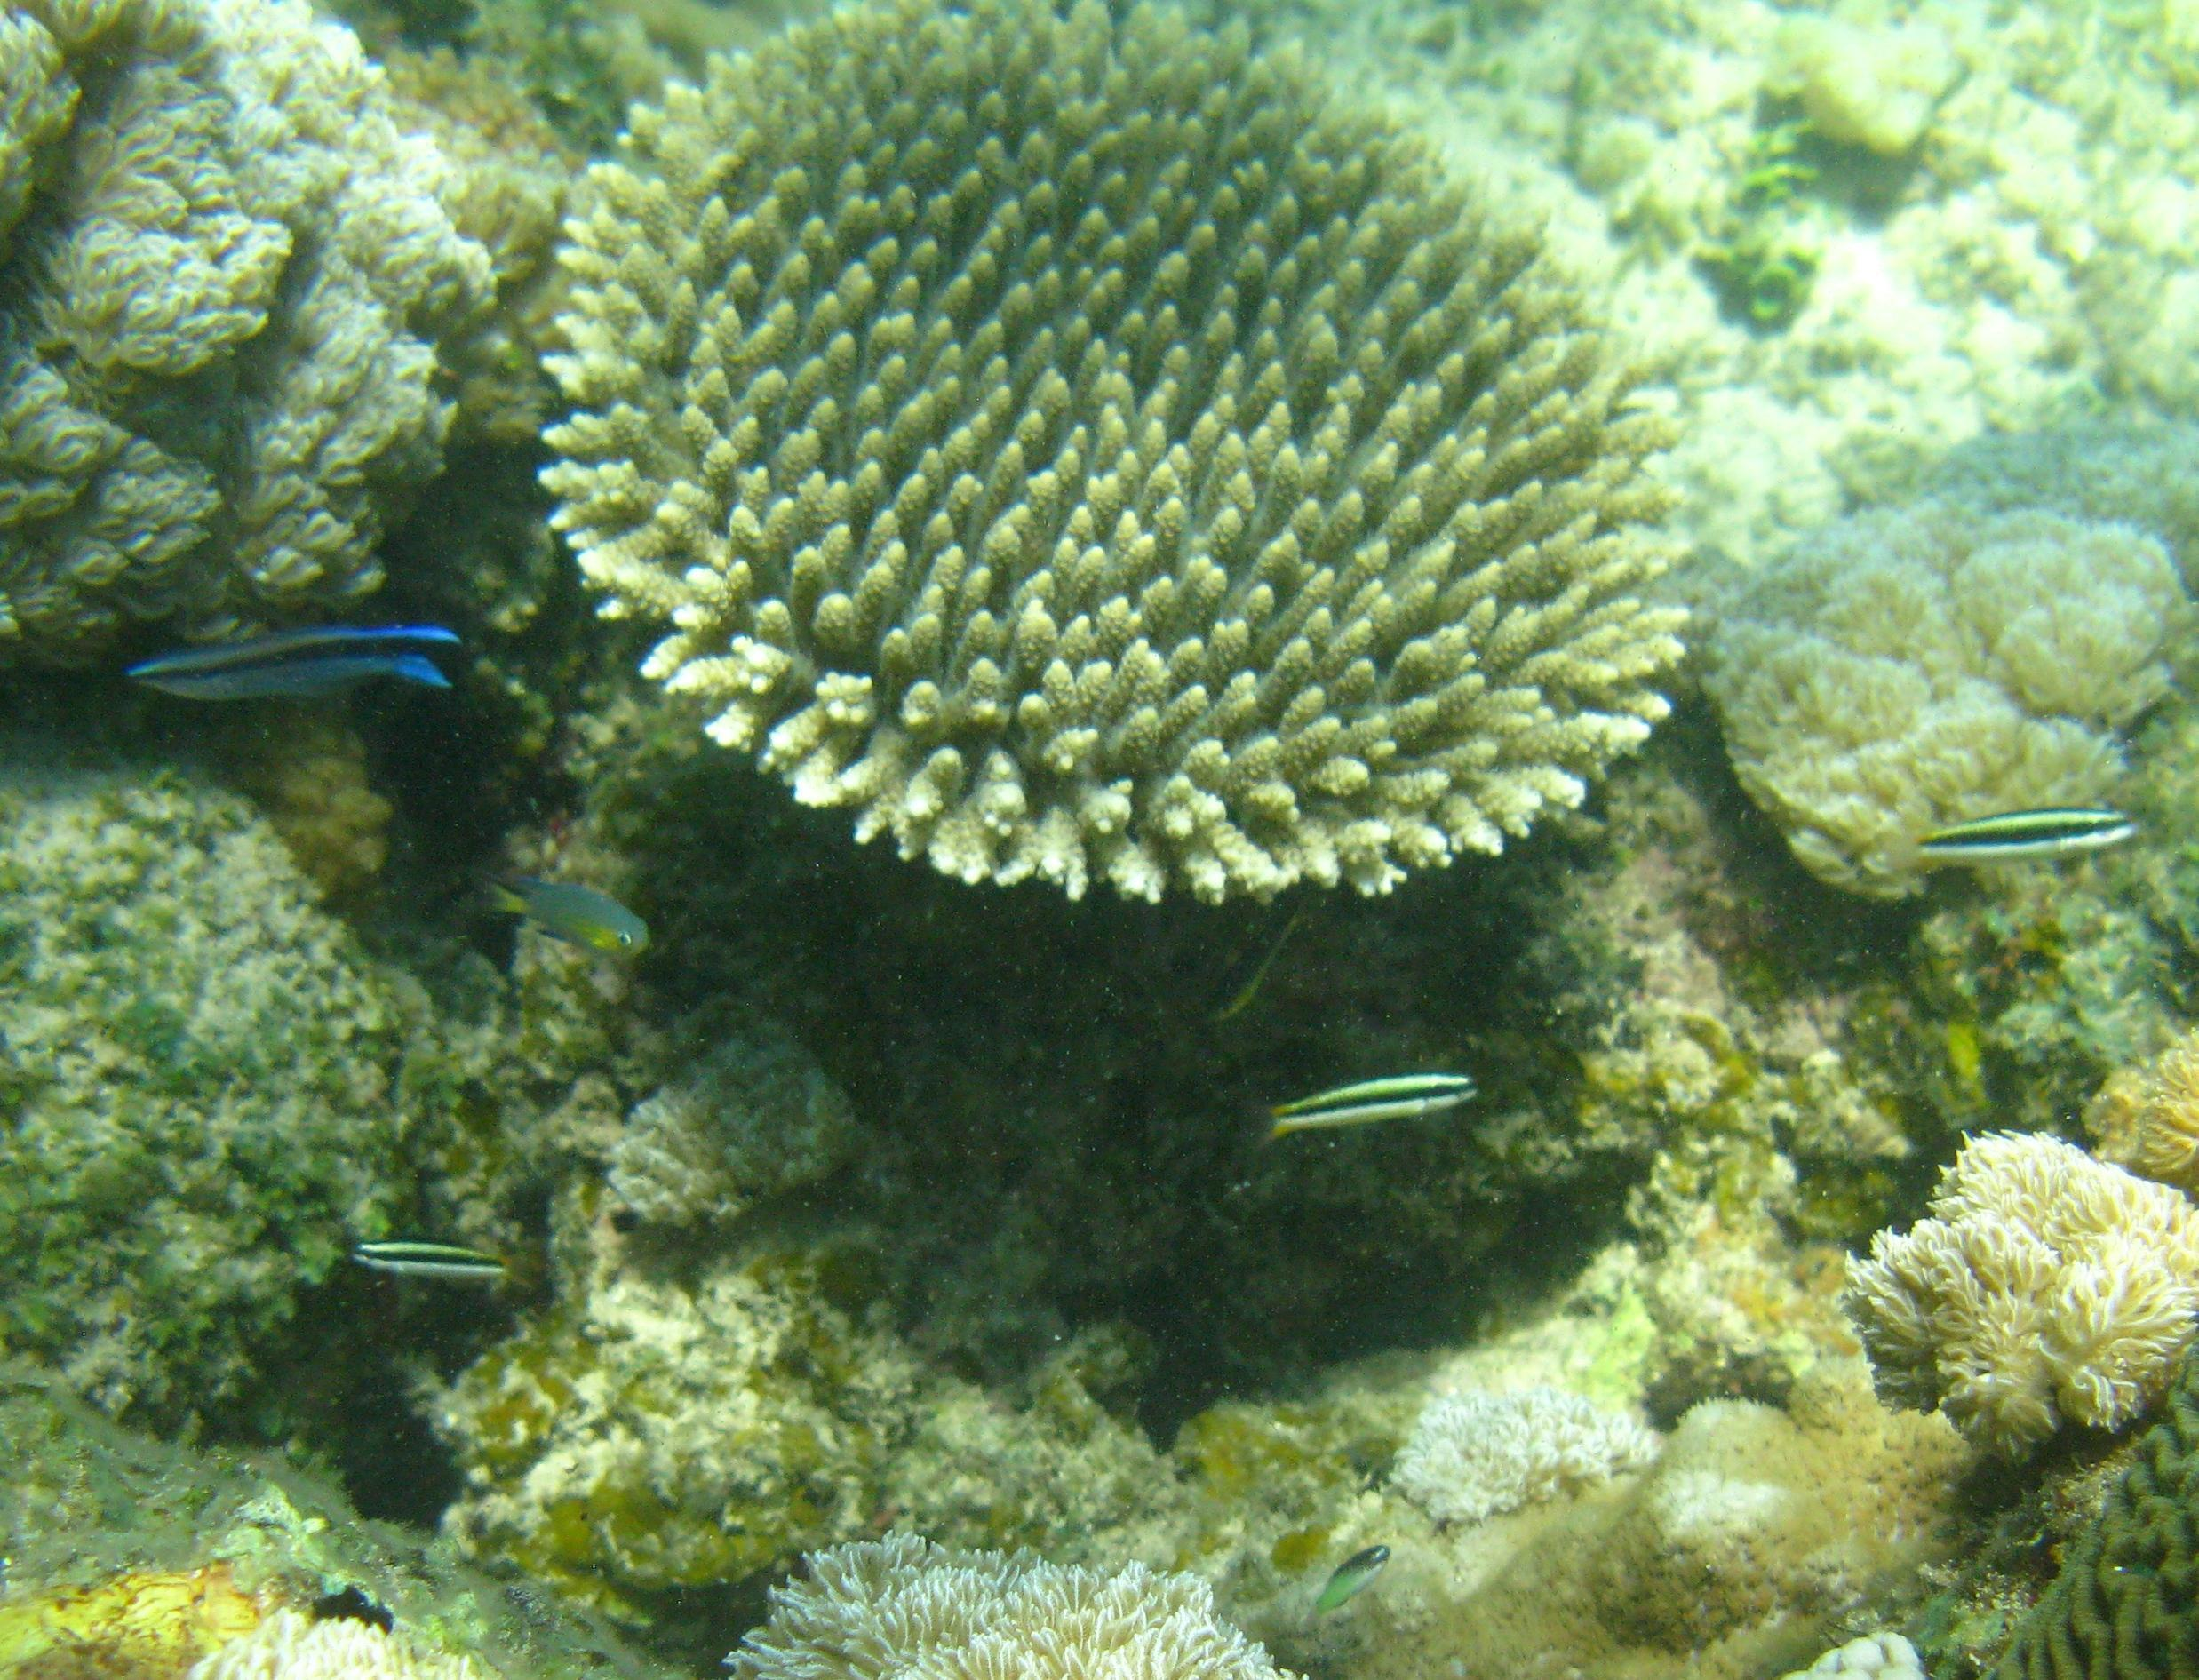Chromis nigura: (439, 854, 688, 990)
